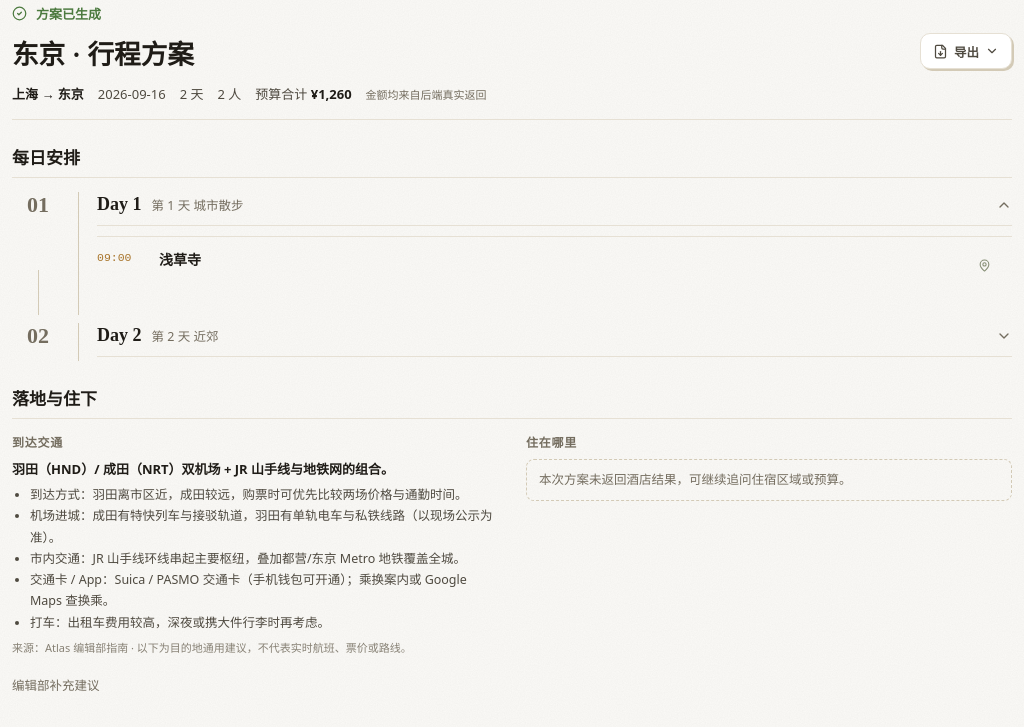
Test: ItineraryWorkspace reading mode (R1 结构) › keeps day 1 open and collapses later days until toggled
The image size is (1024, 727).
Expected: the list named "逐日行程时间轴" shows "浅草寺", [159,250,201,269]
Expected: the list "逐日行程时间轴" does not show "镰仓"
What coordinates should you click on to do the following:
click the button "Day 2 第 2 天 近郊"
I would click on:
 (119, 335)
Its box is [97,323,1012,357].
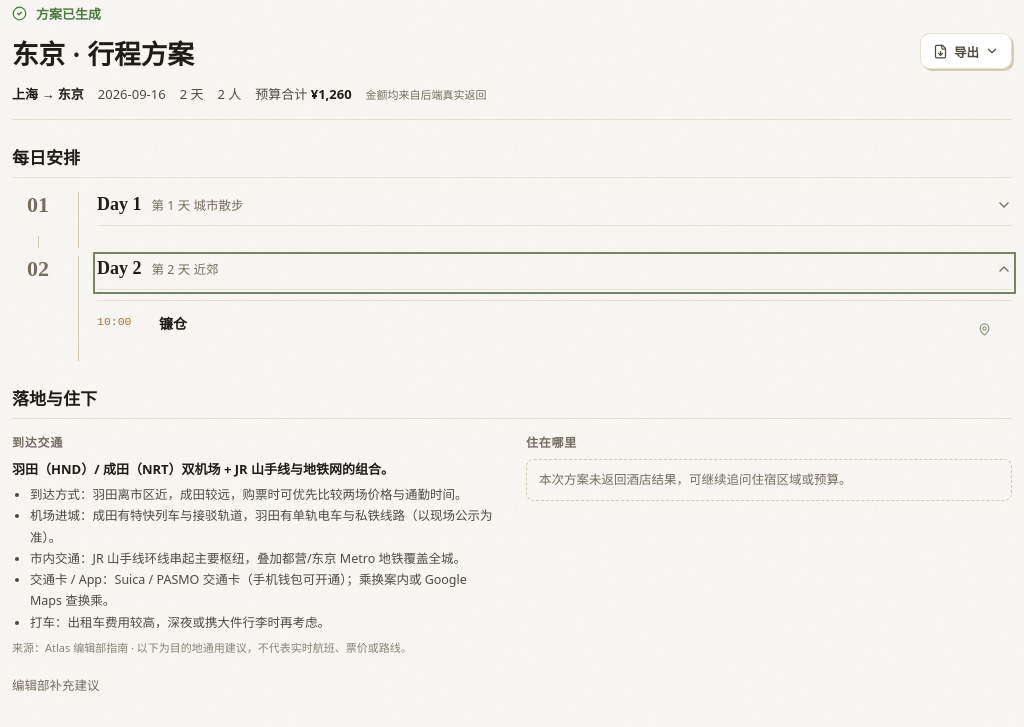
Expected: the text "镰仓" is shown, [159,314,187,333]
What coordinates should you click on to do the following:
click the button "Day 2 第 2 天 近郊"
I would click on:
 (119, 268)
Its box is [97,256,1012,290].
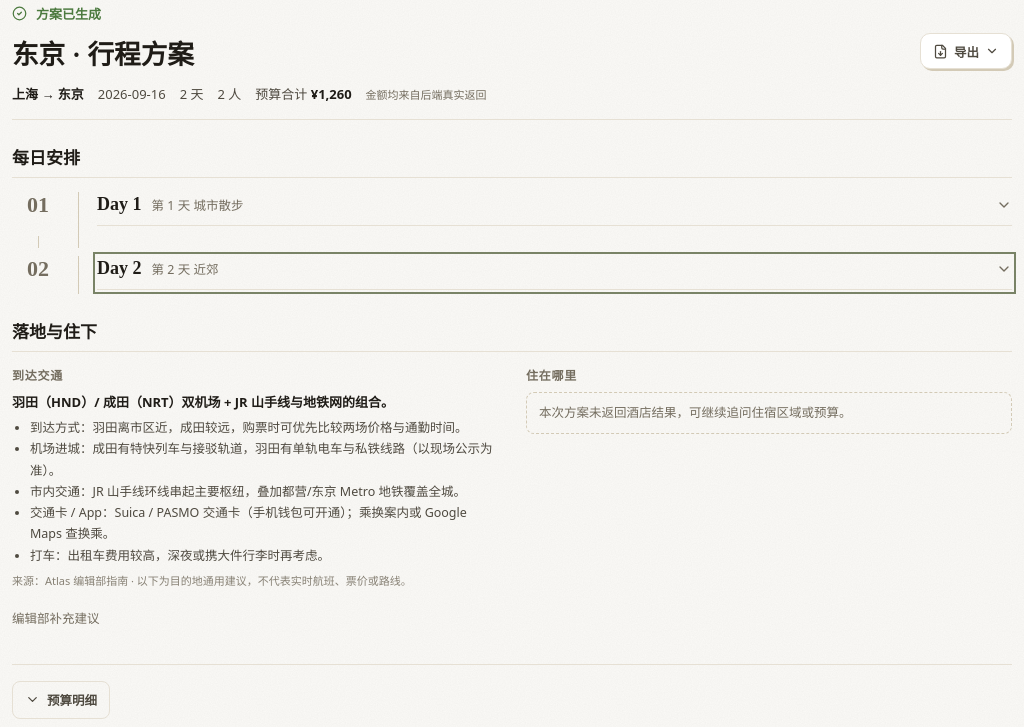
Expected: the button "Day 2 第 2 天 近郊" is collapsed, [97,256,1012,290]
Expected: the text "镰仓" is gone
